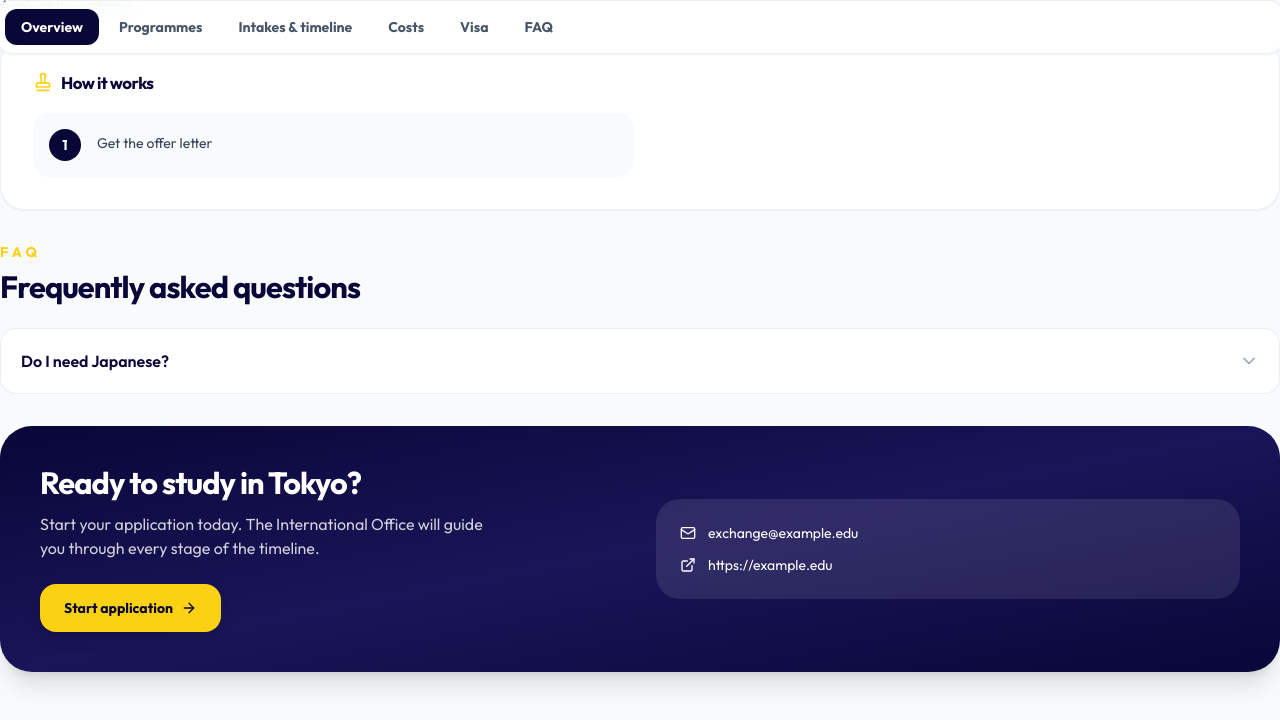
UniversityDetail › opens a FAQ answer when its question is clicked
The image size is (1280, 720).
(page scrolled)
Expected: the text "No, courses are in English." is not shown
Click the button "Do I need Japanese?": (95, 361) [1,329,1279,393]
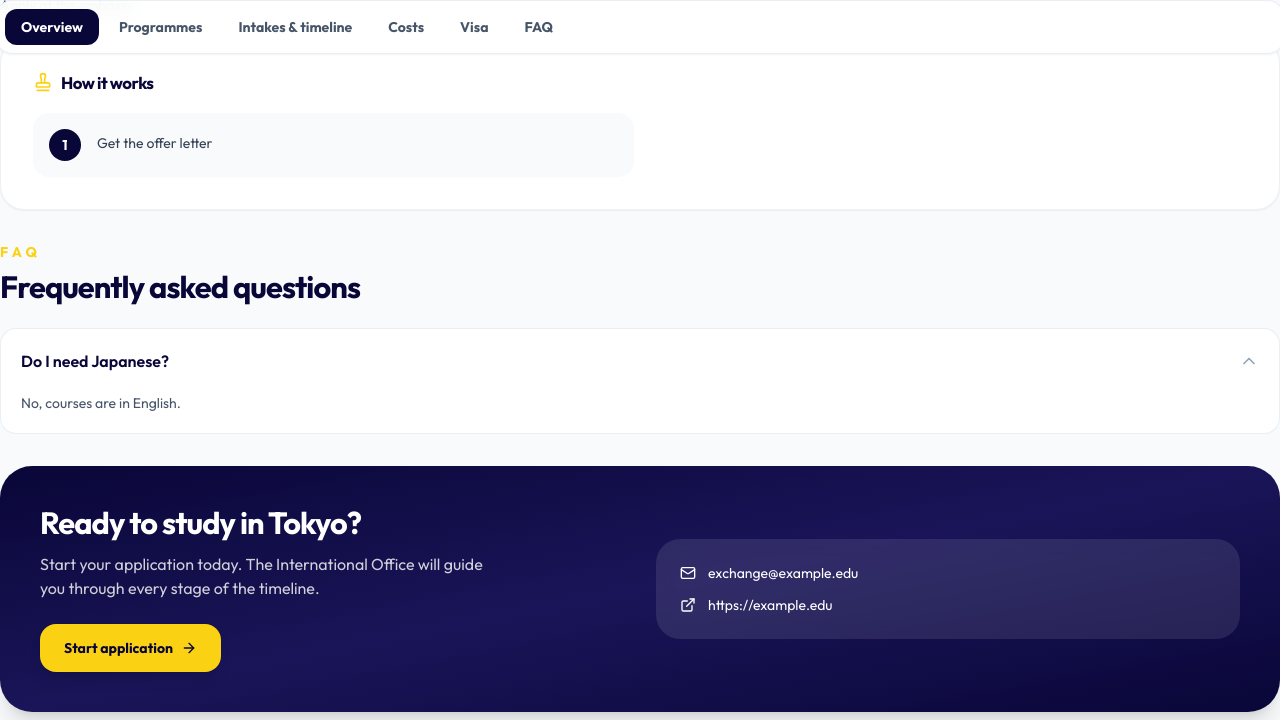
Now the text "No, courses are in English." is shown, box [21,394,181,412]
